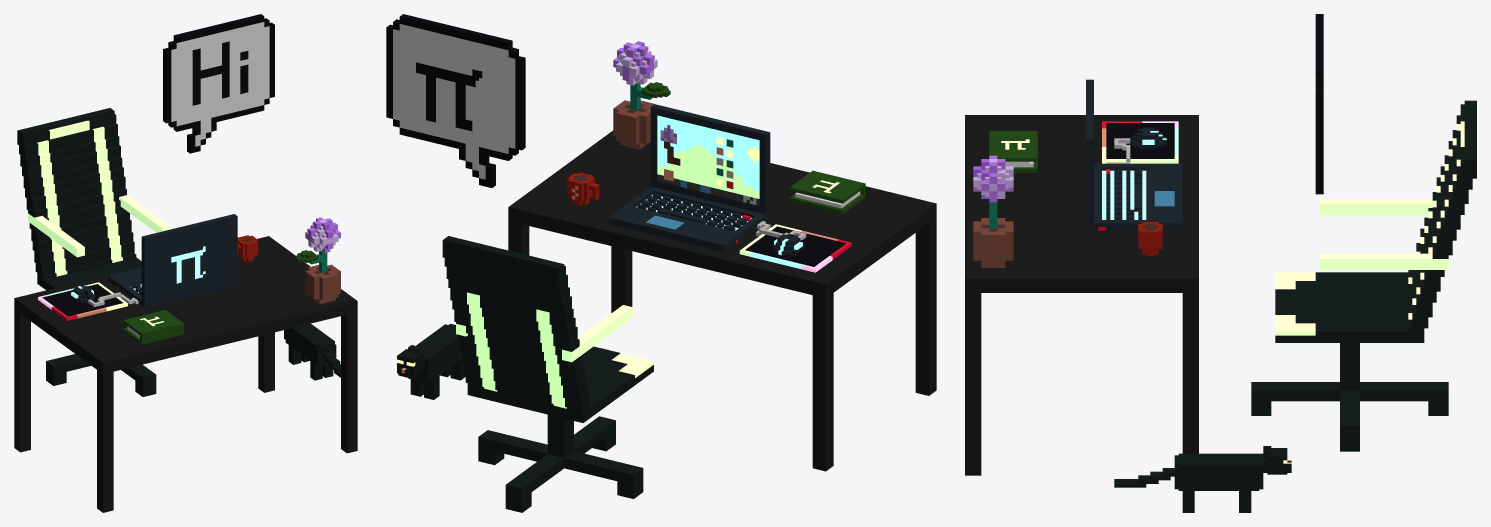
File: setup_new.glb
3 views of the same model, side by side, from view 1: azimuth 30°, elevation 25°; view 2: azimuth 150°, elevation 25°; view 3: azimuth 270°, elevation 25° (orthographic). The views are drawn at different scales.
Visible parts, largest first — view 1: _0; view 2: _0; view 3: _0.
Boxes of the visible parts, x1,y1,x2,y2 form: _0: (14,14,357,512); _0: (386,14,936,512); _0: (965,14,1476,512).
Bounding box in the file's own units: 6.41 × 6.41 × 6.9.
